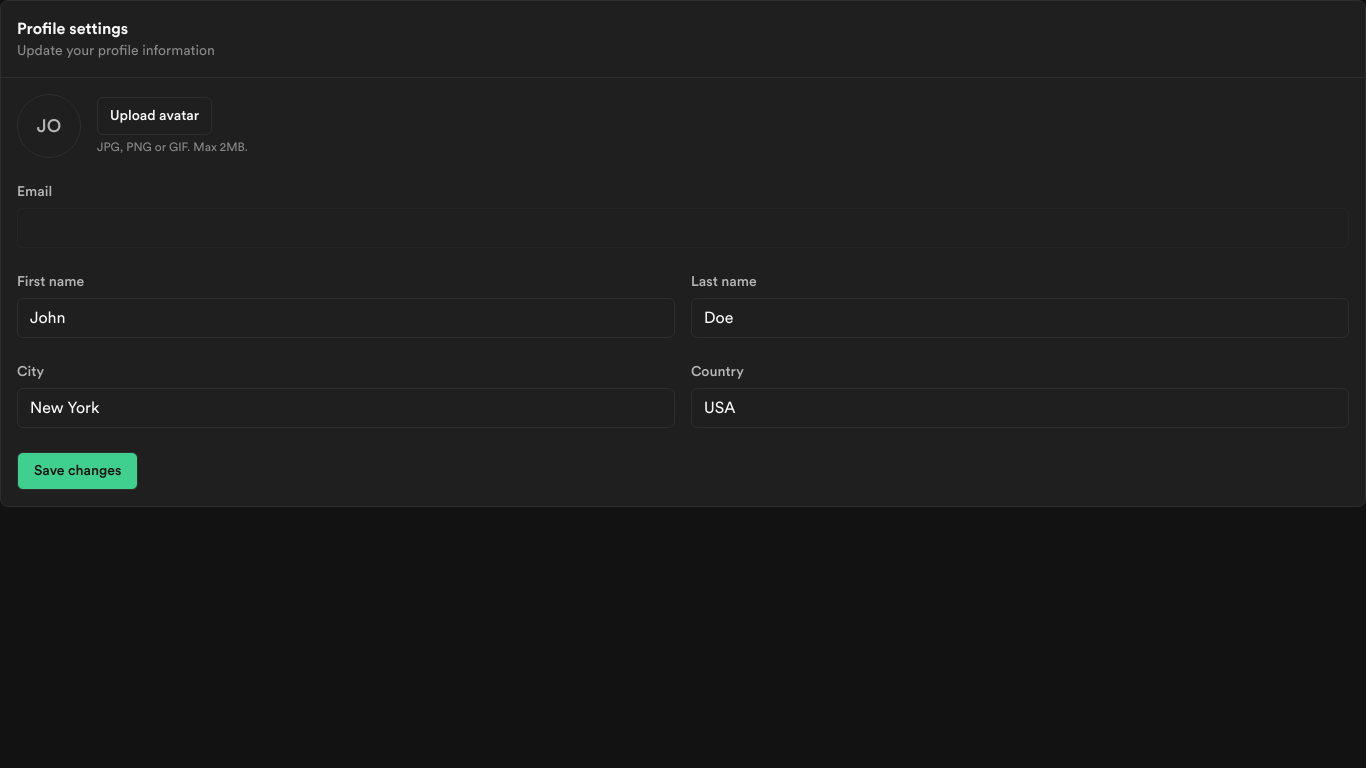
Test: ProfileForm component › when submitting the form › should show error when user not logged in
Click the button "Save changes". click: [78, 471]
box: [17,452,138,490]
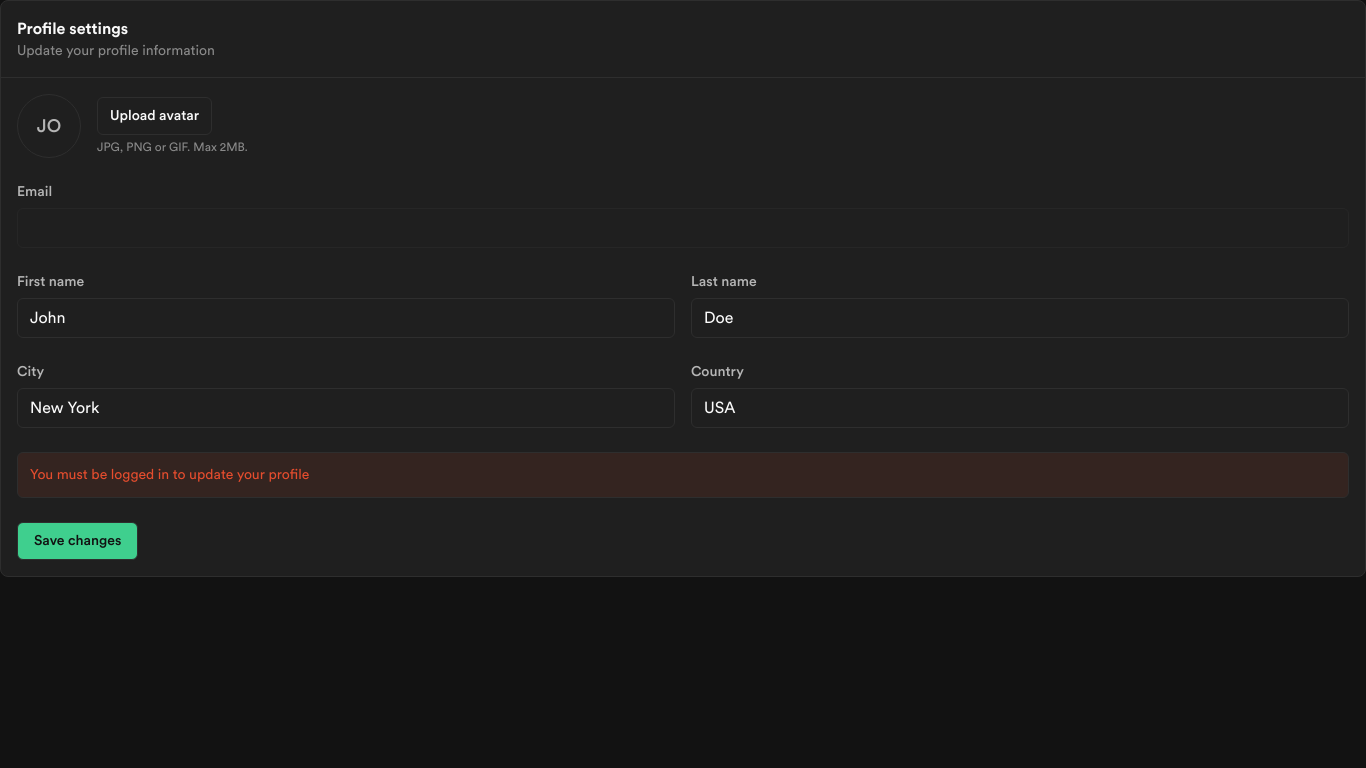
Result: the text "You must be logged in to update your profile" is shown at [30,468,309,482]
